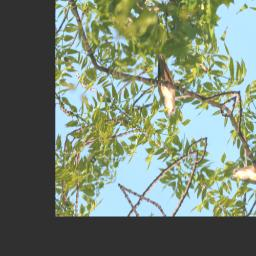Cuckoo: (134, 49, 195, 120)
